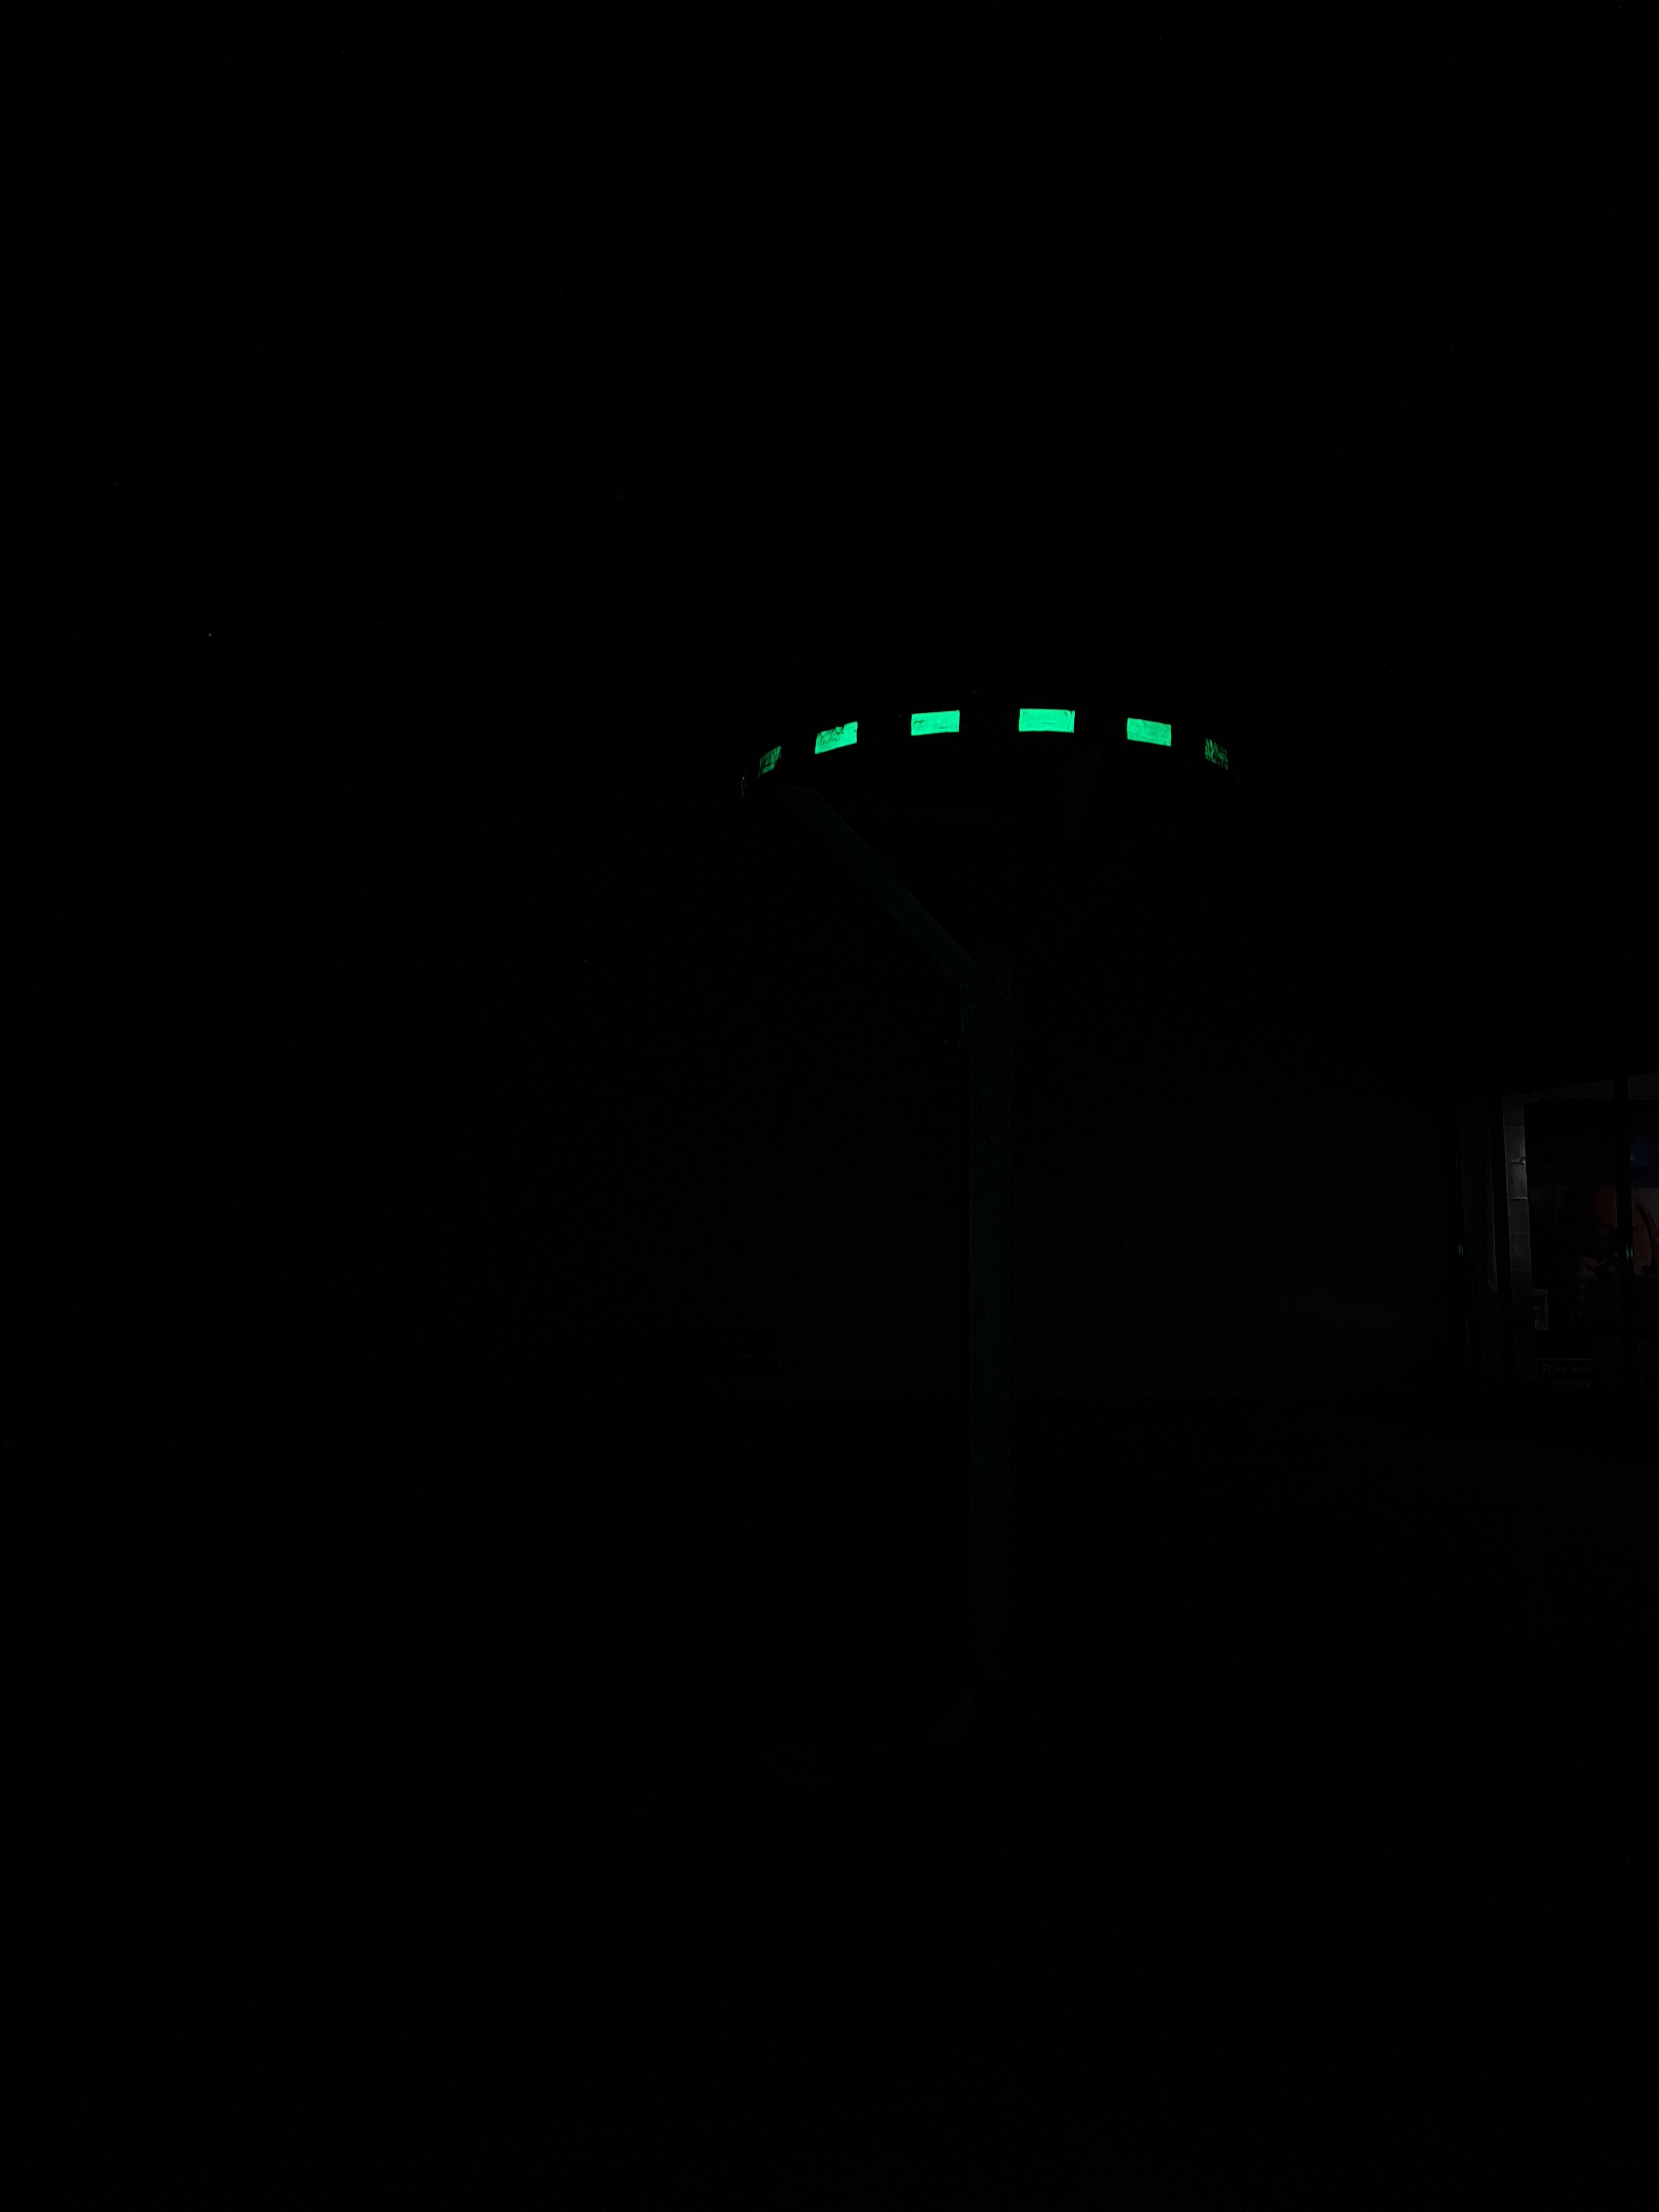hoop: (753, 704, 1237, 782)
